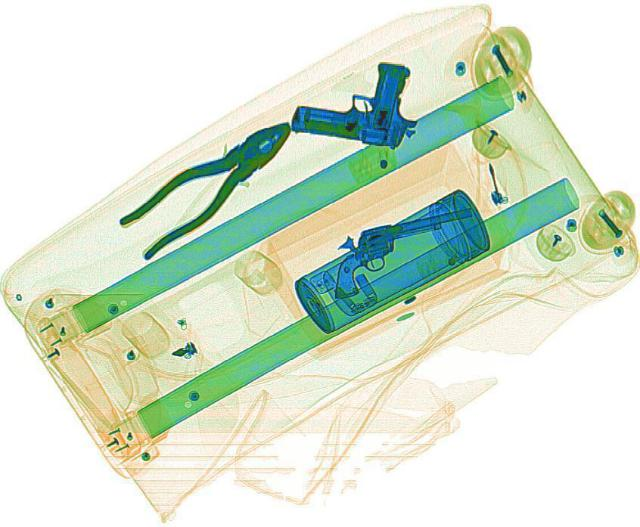Gun: (309, 205, 491, 298), (286, 48, 428, 150)
Pliers: (101, 107, 313, 261)
